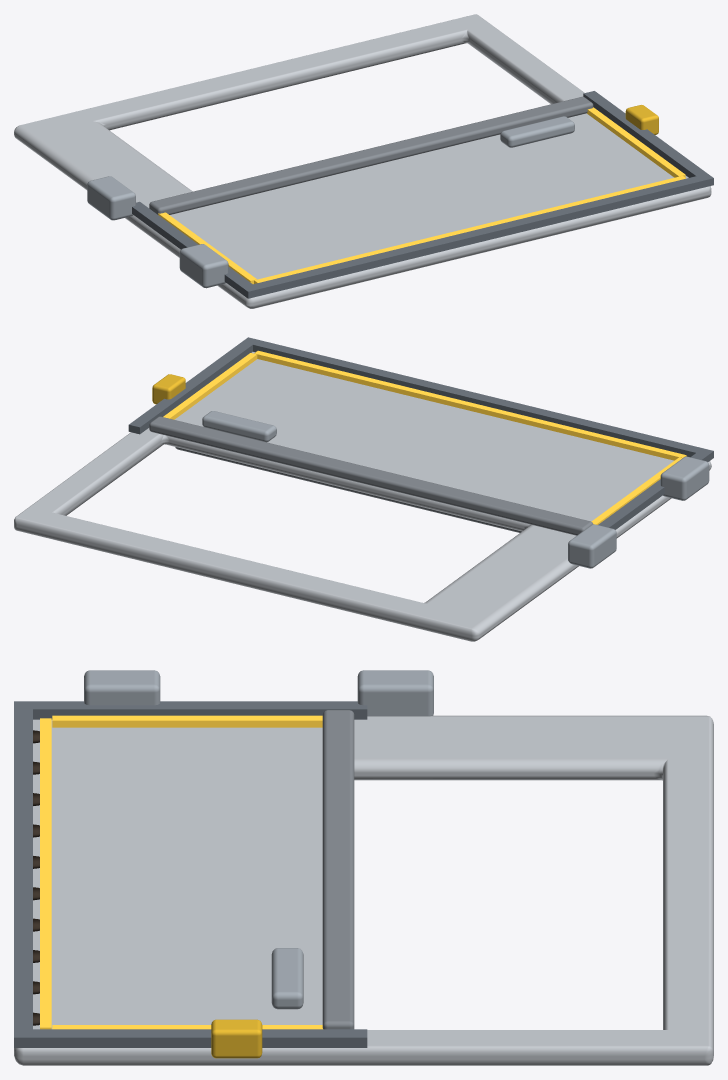
Rendered from door.glb.
The picture shows the model from 3 angles, top to bottom: view 1: azimuth 30°, elevation 25°; view 2: azimuth 150°, elevation 25°; view 3: azimuth 270°, elevation 25°; orthographic projection. The views are drawn at different scales.
Parts seen in each view (by area): view 1: Door_Outer, Door_Beltline, Hem_Bottom, Hem_Rear, Seal_0_-0.5, Hinge_-0.38, Hinge_0.05, Hem_Front, Door_Handle, Seal_0.575_-0.26, Seal_-0.575_-0.26, Striker; view 2: Door_Outer, Door_Beltline, Hem_Bottom, Seal_0_-0.5, Hem_Rear, Hinge_0.05, Hinge_-0.38, Door_Handle, Hem_Front, Seal_0.575_-0.26, Door_InnerFrame, Striker (+1 smaller); view 3: Door_Outer, Door_Beltline, Hem_Bottom, Hem_Rear, Hem_Front, Seal_0_-0.5, Seal_-0.575_-0.26, Hinge_0.05, Hinge_-0.38, Striker, Door_Handle, Seal_0.575_-0.26.
Boxes of the visible parts, <box> form: Door_Outer: <box>14,14,711,308</box>; Door_Beltline: <box>149,96,593,214</box>; Hem_Bottom: <box>241,176,713,298</box>; Hem_Rear: <box>583,91,712,179</box>; Seal_0_-0.5: <box>254,176,685,283</box>; Hinge_-0.38: <box>179,244,228,288</box>; Hinge_0.05: <box>87,176,135,220</box>; Hem_Front: <box>132,201,255,297</box>; Door_Handle: <box>500,116,574,147</box>; Seal_0.575_-0.26: <box>587,107,685,177</box>; Seal_-0.575_-0.26: <box>158,212,256,284</box>; Striker: <box>625,105,658,134</box>; Door_Outer: <box>14,352,711,641</box>; Door_Beltline: <box>149,416,592,535</box>; Hem_Bottom: <box>242,337,713,458</box>; Seal_0_-0.5: <box>254,350,686,460</box>; Hem_Rear: <box>128,339,257,434</box>; Hinge_0.05: <box>568,524,616,568</box>; Hinge_-0.38: <box>660,456,709,500</box>; Door_Handle: <box>202,411,276,442</box>; Hem_Front: <box>598,452,712,529</box>; Seal_0.575_-0.26: <box>163,353,257,419</box>; Door_InnerFrame: <box>175,447,521,532</box>; Striker: <box>152,374,185,404</box>; Door_Outer: <box>14,715,713,1065</box>; Door_Beltline: <box>322,710,354,1029</box>; Hem_Bottom: <box>14,701,32,1047</box>; Hem_Rear: <box>17,1029,367,1047</box>; Hem_Front: <box>17,701,367,719</box>; Seal_0_-0.5: <box>40,718,51,1029</box>; Seal_-0.575_-0.26: <box>52,715,322,727</box>; Hinge_0.05: <box>357,670,433,716</box>; Hinge_-0.38: <box>84,670,160,705</box>; Striker: <box>211,1019,262,1058</box>; Door_Handle: <box>271,948,303,1009</box>; Seal_0.575_-0.26: <box>52,1025,322,1029</box>.
Size of the model in its own units: 1.34 by 0.115 by 1.1.
